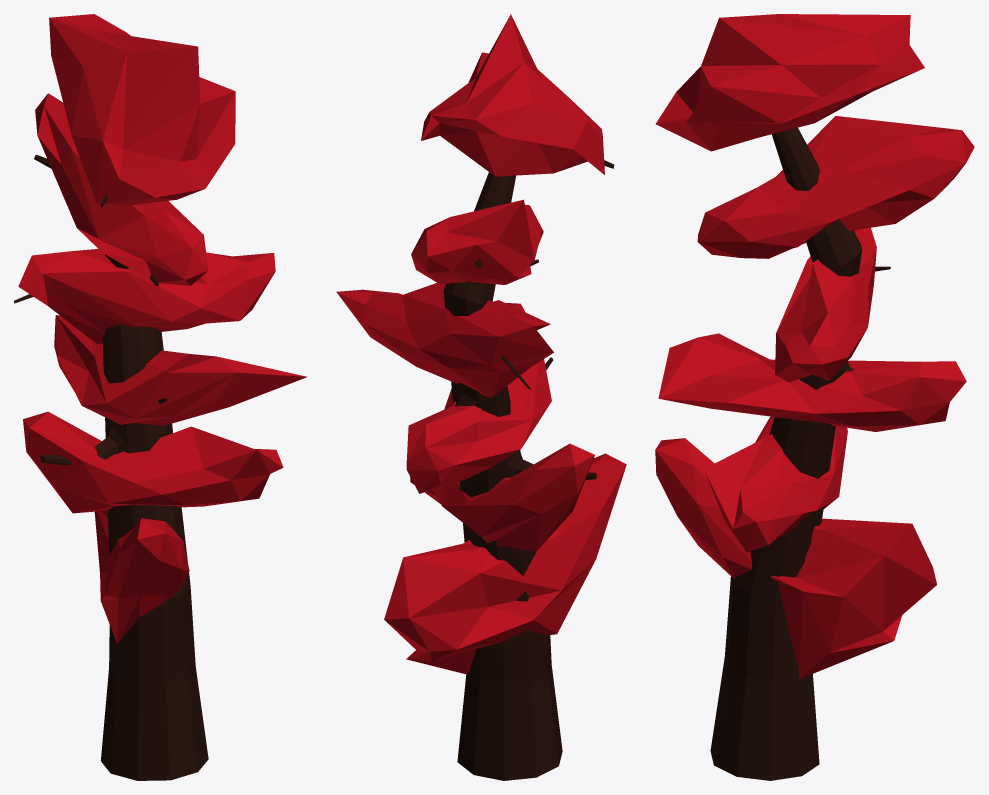
File: t5-purple.obj
The picture shows the model from 3 angles, left to right: view 1: azimuth 30°, elevation 25°; view 2: azimuth 150°, elevation 25°; view 3: azimuth 270°, elevation 25°; orthographic projection. The views are drawn at different scales.
Visible parts, largest first — view 1: t5-purple_Icosphere.014; view 2: t5-purple_Icosphere.014; view 3: t5-purple_Icosphere.014.
Boxes of the visible parts, x1=… form: t5-purple_Icosphere.014: x1=14, y1=14, x2=306, y2=780; t5-purple_Icosphere.014: x1=336, y1=14, x2=626, y2=780; t5-purple_Icosphere.014: x1=655, y1=14, x2=974, y2=780.
Bounding box in the file's own units: 3.58 × 9.84 × 3.79.
